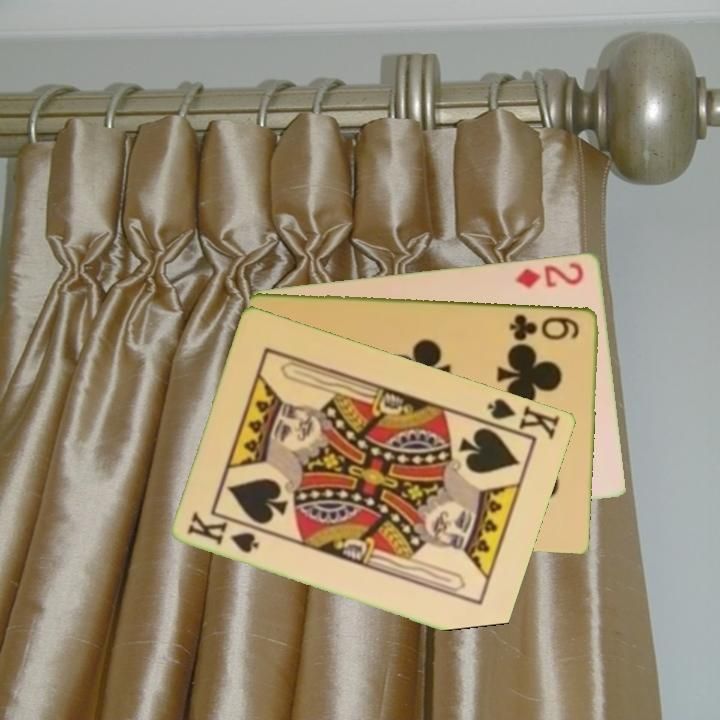2d: (512, 258, 587, 291)
6c: (506, 310, 582, 343)
Ks: (184, 507, 263, 556), (484, 394, 564, 442)
